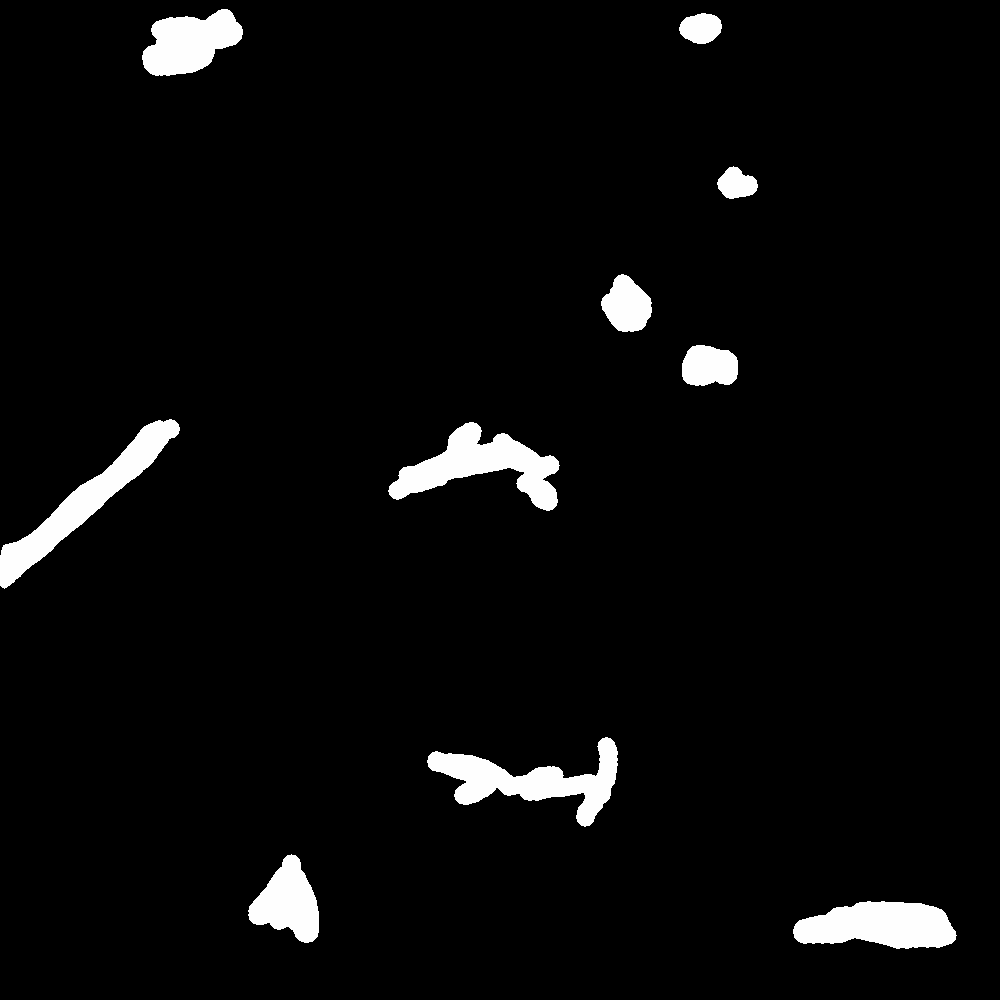illegal: (356, 713, 623, 840), (1, 423, 190, 594), (615, 281, 740, 396), (389, 432, 579, 501), (111, 8, 240, 92), (800, 886, 946, 956)
